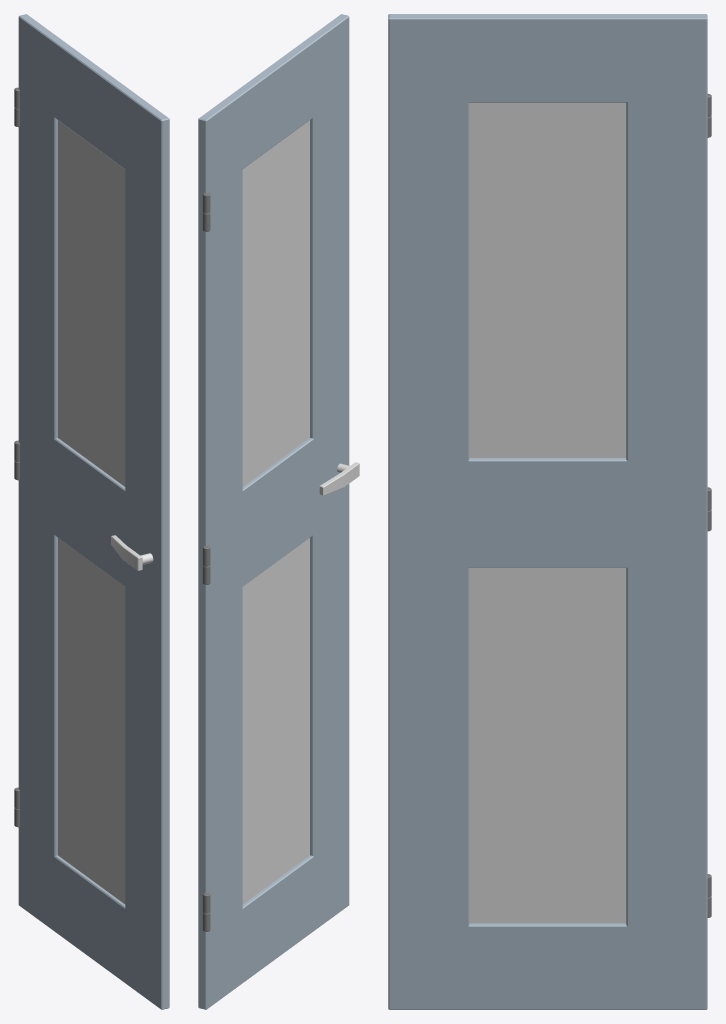
File: Cupboard door left.fbx
The picture shows the model from 3 angles, left to right: view 1: azimuth 30°, elevation 25°; view 2: azimuth 150°, elevation 25°; view 3: azimuth 270°, elevation 25°; orthographic projection. The views are drawn at different scales.
Parts seen in each view (by area): view 1: Cupboard door left; view 2: Cupboard door left; view 3: Cupboard door left.
Boxes of the visible parts, x1=… form: Cupboard door left: x1=14, y1=14, x2=169, y2=1009; Cupboard door left: x1=198, y1=14, x2=359, y2=1009; Cupboard door left: x1=388, y1=14, x2=711, y2=1009.
Size of the model in its own units: 5.77 by 192 by 56.75.
